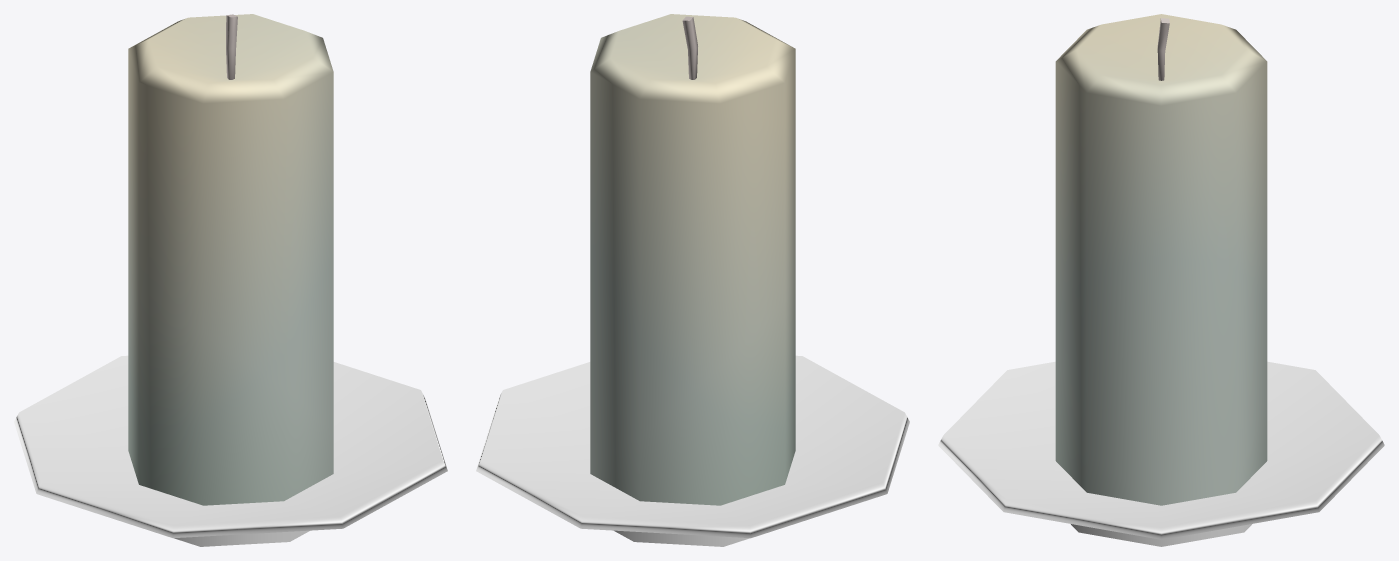
File: prop_031.fbx
3 renders of one model, left to right at view 1: azimuth 30°, elevation 25°; view 2: azimuth 150°, elevation 25°; view 3: azimuth 270°, elevation 25°, orthographic.
Parts seen in each view (by area): view 1: prop_031; view 2: prop_031; view 3: prop_031.
Part boxes in pixels (x1=…): prop_031: x1=14, y1=14, x2=447, y2=546; prop_031: x1=476, y1=14, x2=909, y2=546; prop_031: x1=938, y1=14, x2=1384, y2=546.
Bounding box in the file's own units: 17.79 × 17.79 × 21.05.
